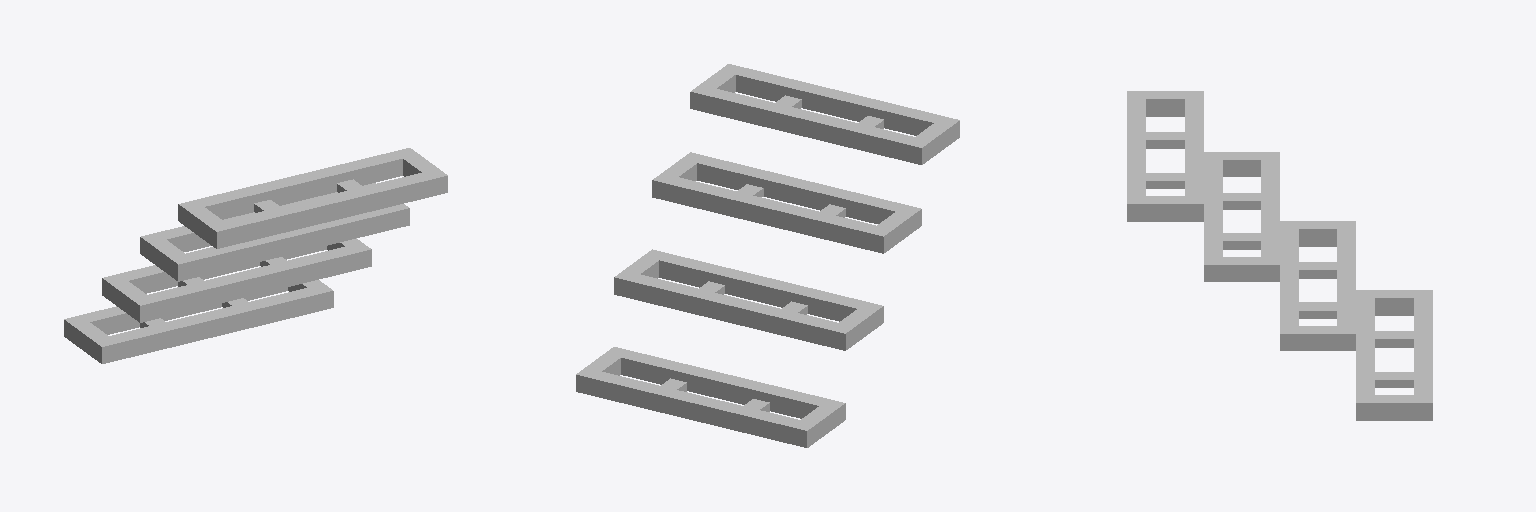
The model's file is stairs_north.obj.
3 views of the same model, side by side, from view 1: azimuth 30°, elevation 25°; view 2: azimuth 150°, elevation 25°; view 3: azimuth 270°, elevation 25° (orthographic).
Parts seen in each view (by area): view 1: stairs_north; view 2: stairs_north; view 3: stairs_north.
Part boxes in pixels (left/top/right/bottom): stairs_north: left=64, top=148, right=447, bottom=363; stairs_north: left=576, top=64, right=959, bottom=447; stairs_north: left=1127, top=91, right=1432, bottom=420.
Bounding box in the file's own units: 0.8748 × 0.781 × 0.9998.